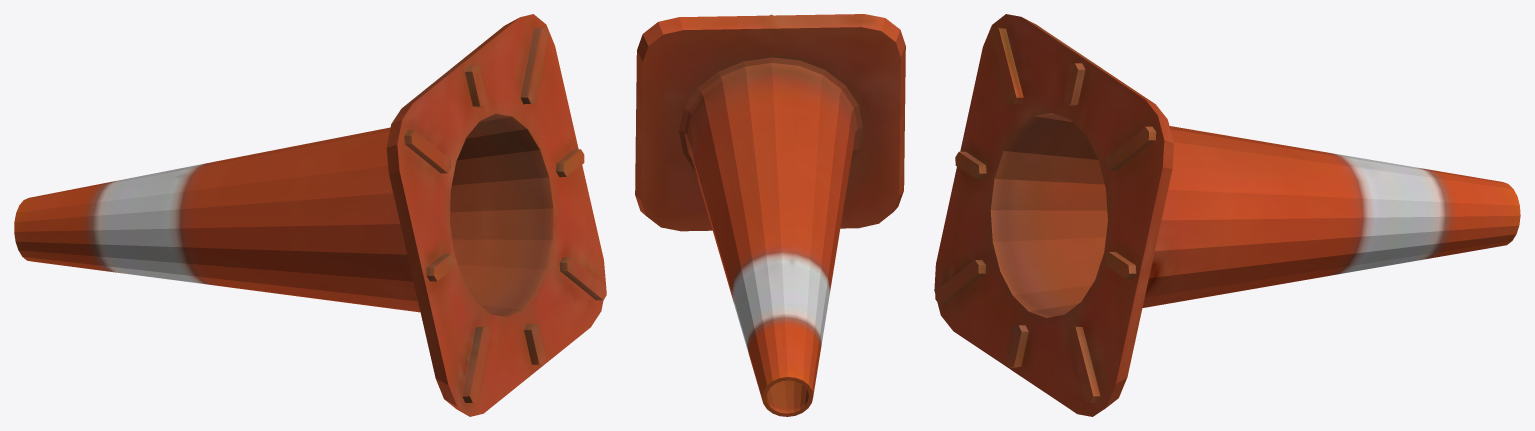
3 renders of one model, left to right at view 1: azimuth 30°, elevation 25°; view 2: azimuth 150°, elevation 25°; view 3: azimuth 270°, elevation 25°, orthographic. The views are drawn at different scales.
Parts seen in each view (by area): view 1: geometry_0; view 2: geometry_0; view 3: geometry_0.
Boxes of the visible parts, <box> form: geometry_0: <box>14,14,606,416</box>; geometry_0: <box>635,14,905,416</box>; geometry_0: <box>934,14,1520,416</box>.
Bounding box in the file's own units: 0.4027 × 0.2797 × 0.5016.
1 material, 1 textured.
